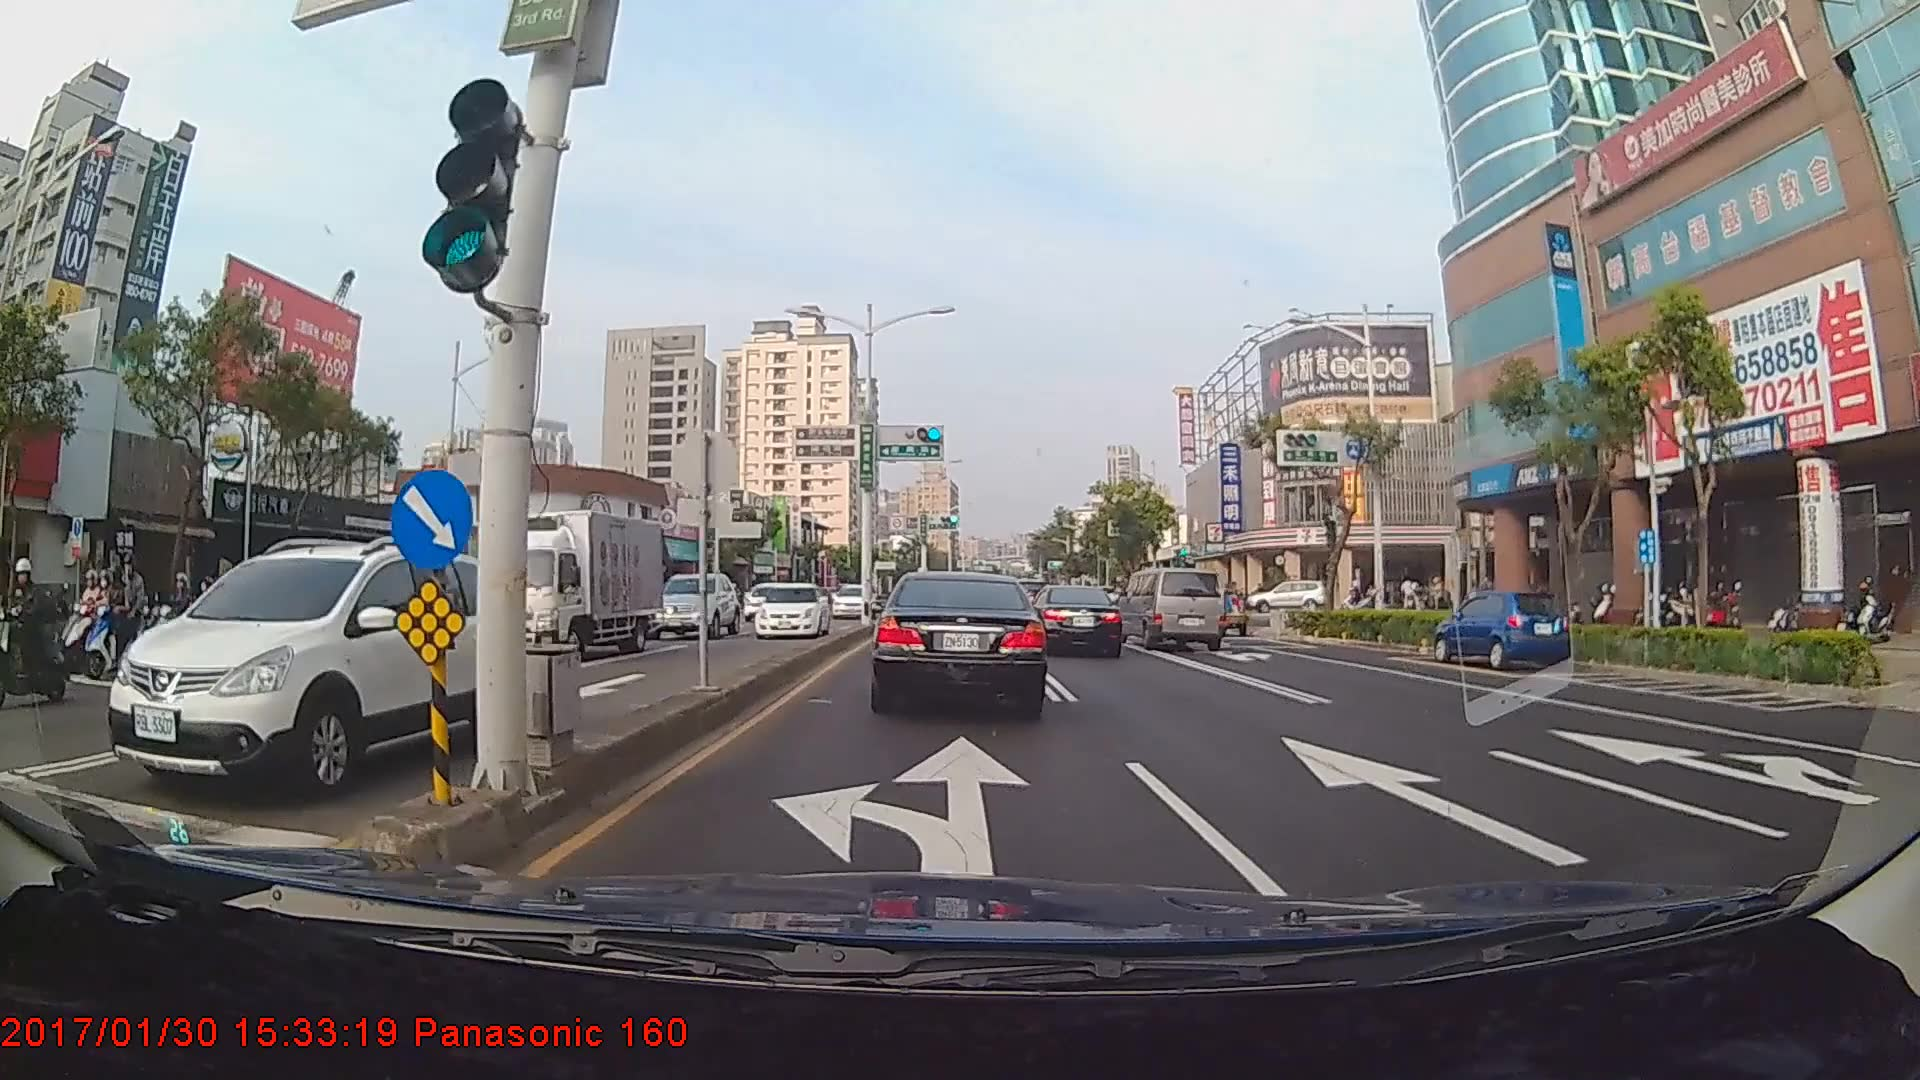rider: (1, 559, 83, 707), (75, 557, 162, 680)
vehicle: (121, 537, 472, 791), (484, 508, 662, 660), (874, 566, 1046, 715), (1429, 584, 1570, 669), (1118, 567, 1227, 652), (644, 569, 738, 637), (1034, 586, 1123, 657), (745, 575, 824, 638), (1245, 580, 1327, 614), (741, 580, 790, 618), (828, 577, 867, 618)
